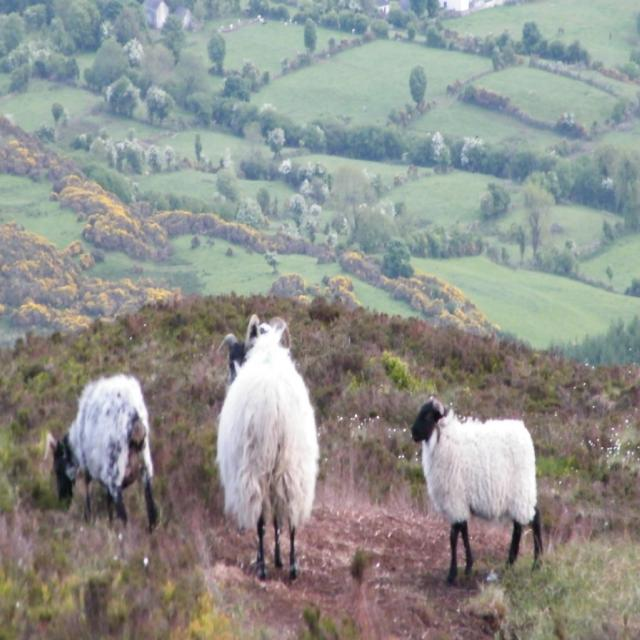Sheep: (44, 314, 544, 583)
